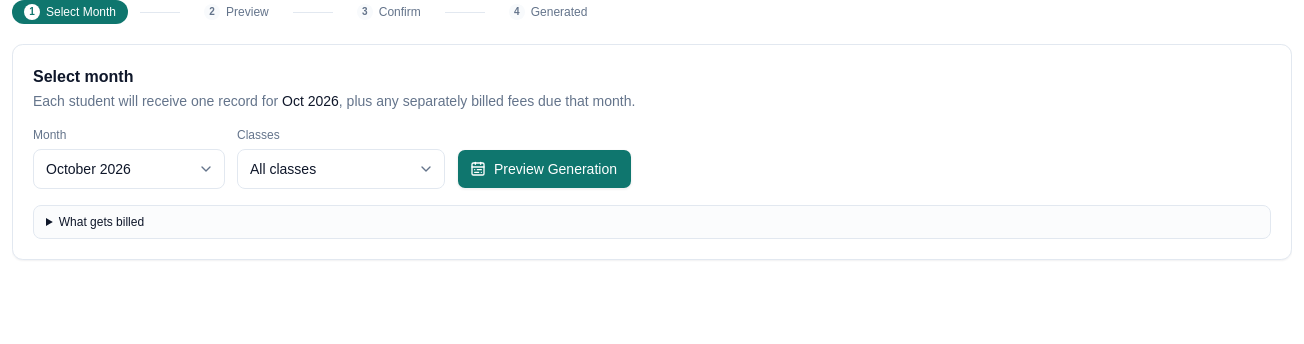
Test: MonthlyGenerationPage › shows a retryable error when the preview fails
The width and height of the screenshot is (1304, 344).
Click the button "Preview Generation".
click(544, 169)  # box [457,149,632,189]
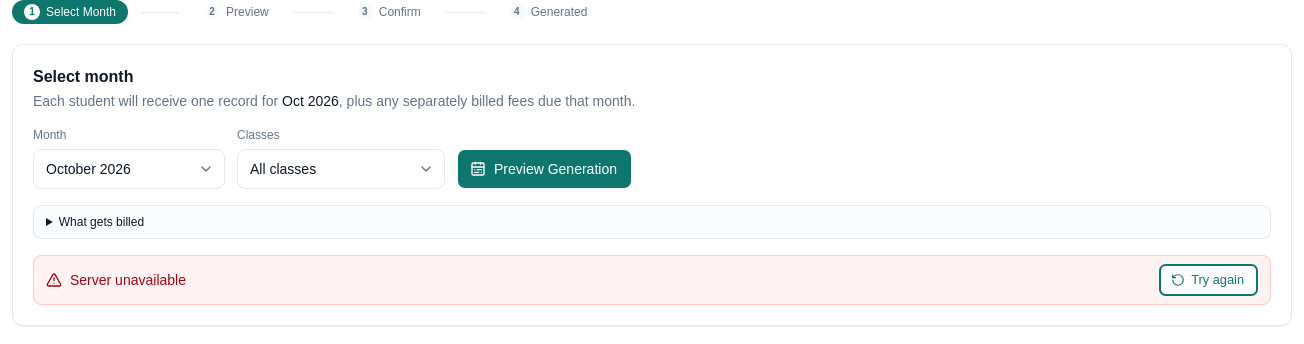
Now the text "Server unavailable" is shown, box [46,270,186,290]
Click the button "Try again".
click(1209, 280)  # box [1159,264,1258,296]
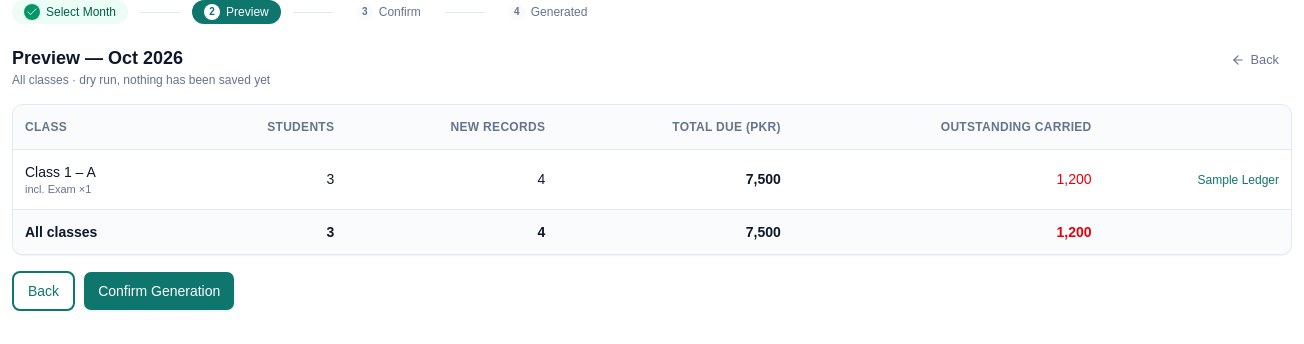
Now the heading "Preview — Oct 2026" is shown, box [12,48,183,68]
